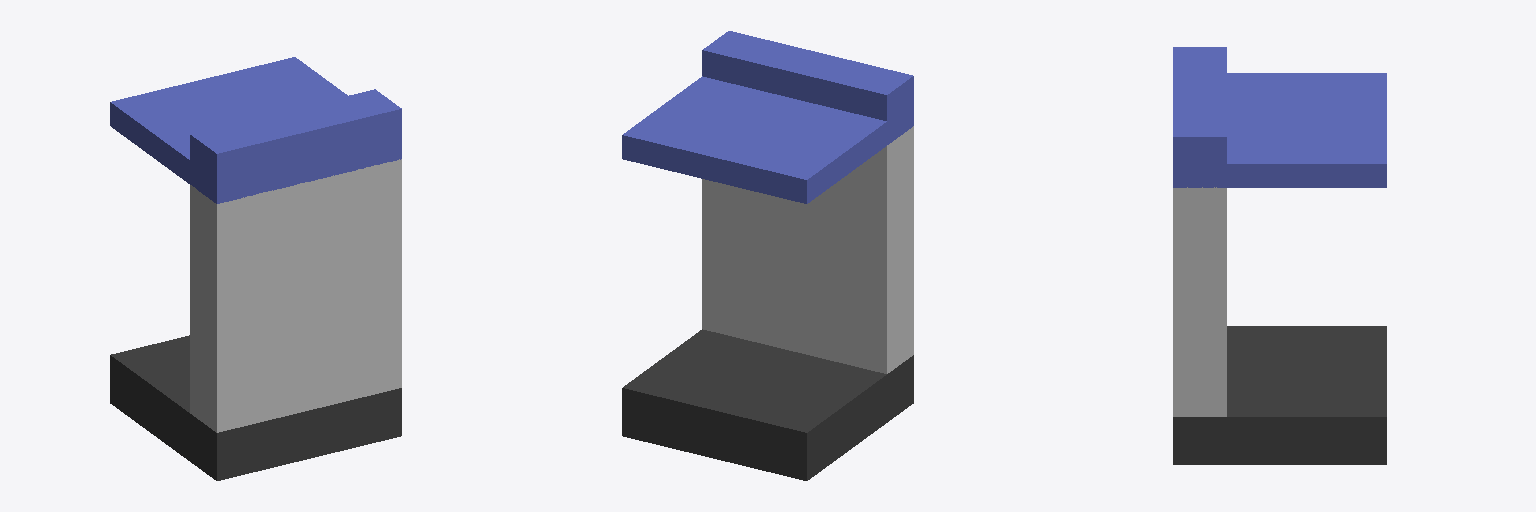
File: PlainWall.obj
3 renders of one model, left to right at view 1: azimuth 30°, elevation 25°; view 2: azimuth 150°, elevation 25°; view 3: azimuth 270°, elevation 25°, orthographic.
Visible parts, largest first — view 1: Cube; view 2: Cube; view 3: Cube.
Part boxes in pixels (bbox=[...]): Cube: bbox=[110, 57, 401, 480]; Cube: bbox=[622, 31, 913, 480]; Cube: bbox=[1173, 47, 1386, 464].
Size of the model in its own units: 4 by 6.77 by 4.